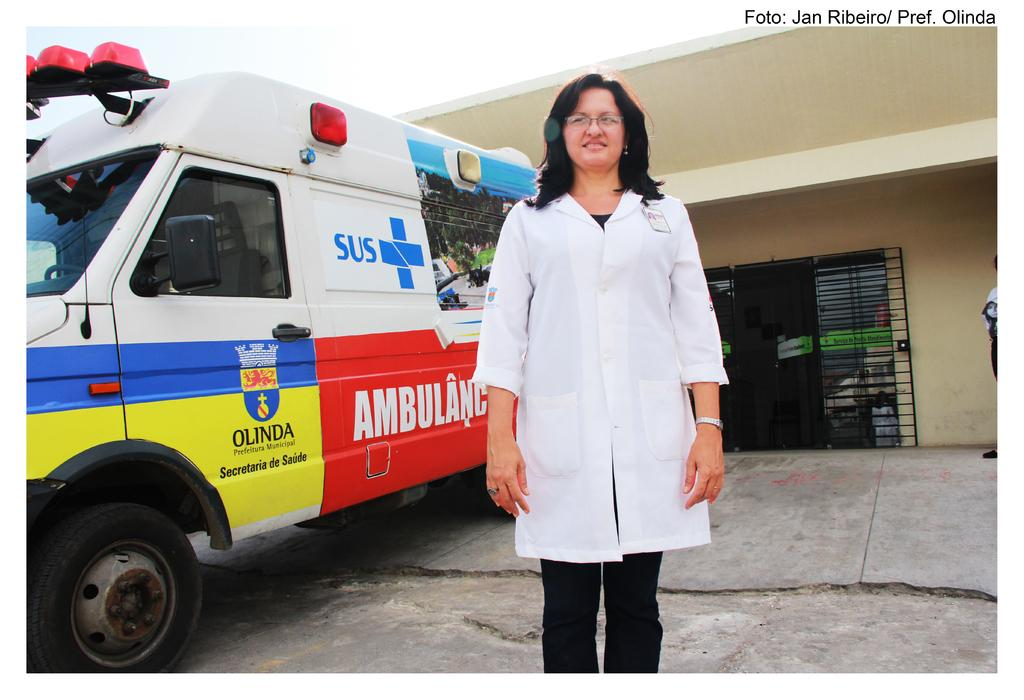Ambulance: (28, 41, 543, 674)
